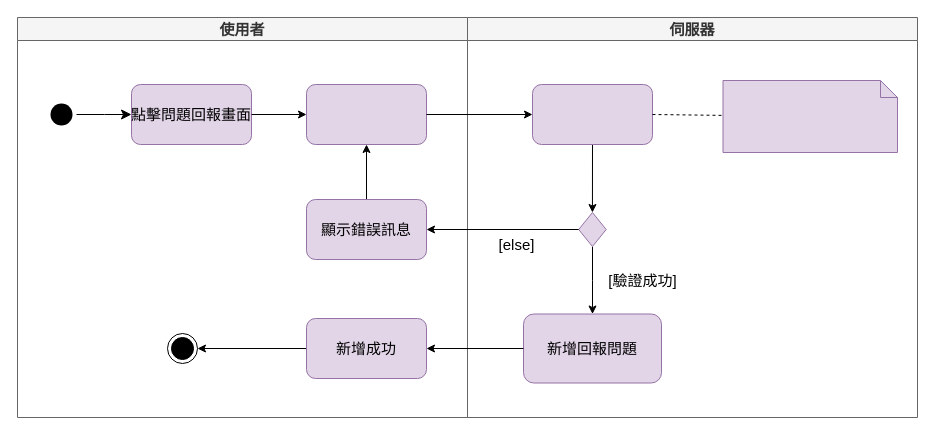
Some shapes in this 935 by 435 pixel diagram are drawn without their labels. Each missing label, with the centre of its shape:
"1.是否所有欄位皆填寫 2.是否超出字數限制" goes at pixel 810 116.
"輸入回報表單" goes at pixel 366 114.
"驗證表單" goes at pixel 592 114.
